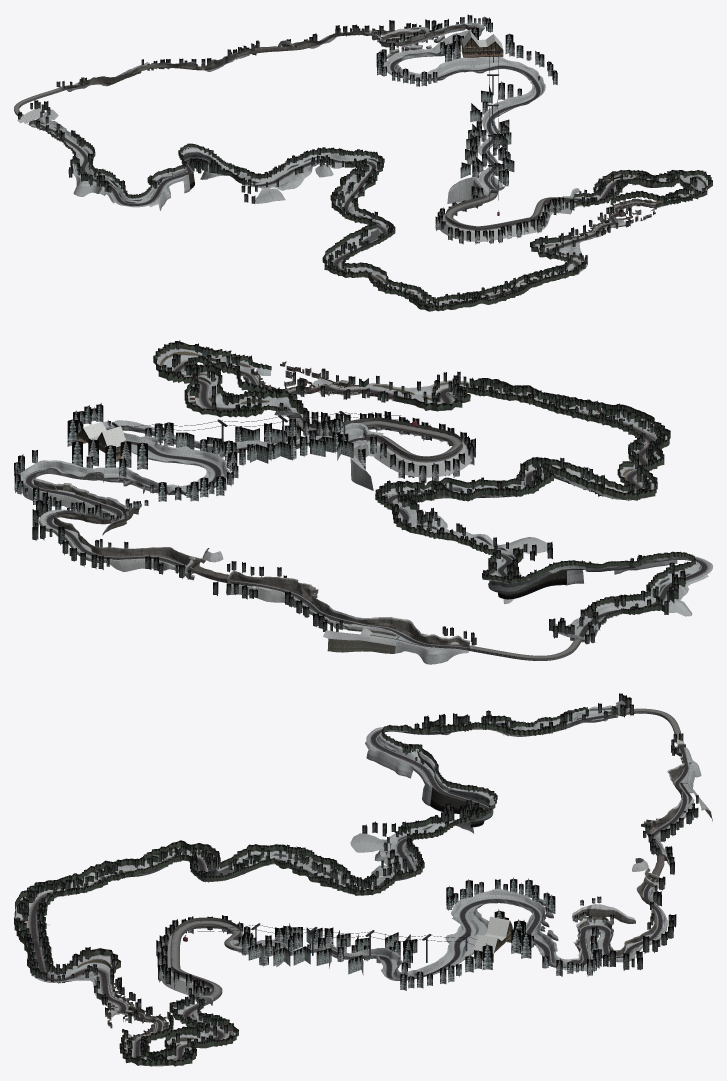
File: summit.glb
The picture shows the model from 3 angles, top to bottom: view 1: azimuth 30°, elevation 25°; view 2: azimuth 150°, elevation 25°; view 3: azimuth 270°, elevation 25°; orthographic projection. The views are drawn at different scales.
Parts seen in each view (by area): view 1: mesh; view 2: mesh; view 3: mesh.
Part boxes in pixels (x1,y1,x2,y2): mesh: (14, 14, 712, 311); mesh: (14, 340, 712, 664); mesh: (14, 693, 712, 1066).
Size of what is drawn, in the model's own units: 2024 by 334 by 1909.
Materials: 1 (1 with a texture image).
